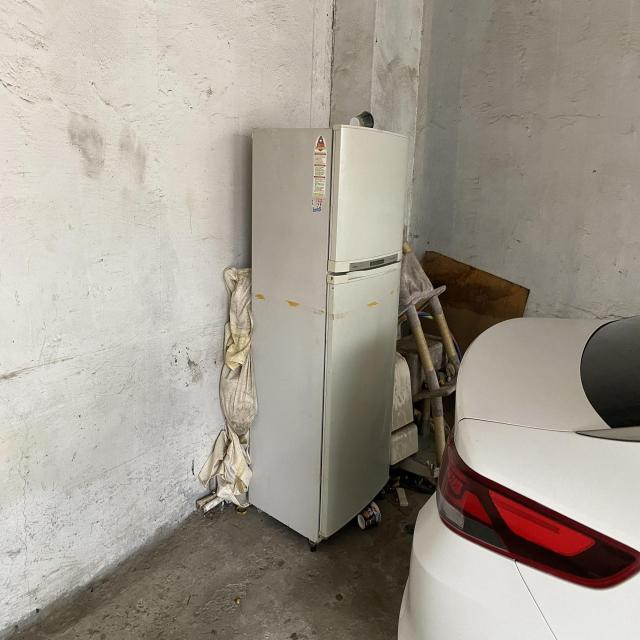refrigerator: (250, 120, 411, 552)
